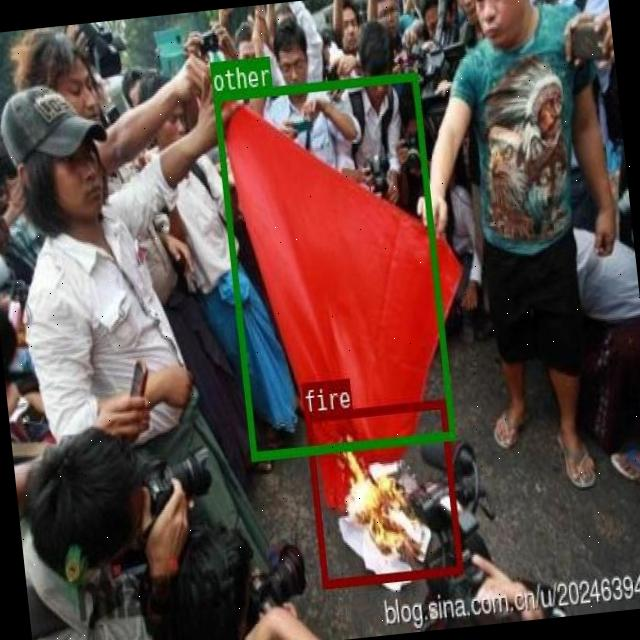fire: (304, 398, 462, 588)
